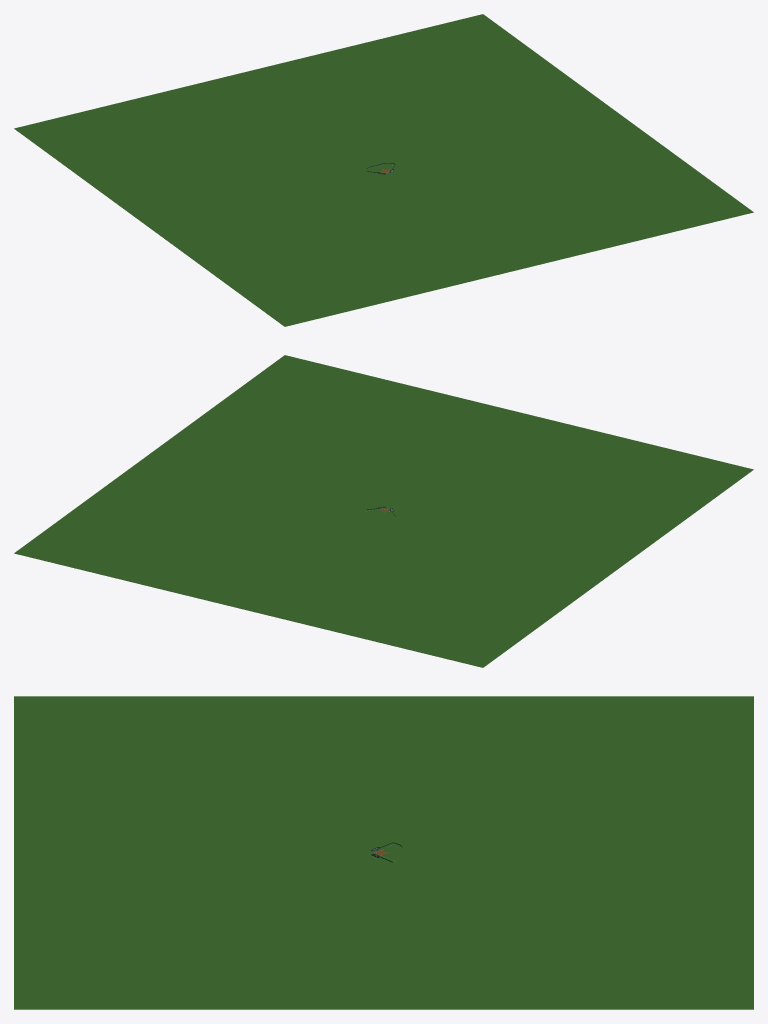
Rendered from baseball_field.glb.
3 renders of one model, top to bottom at view 1: azimuth 30°, elevation 25°; view 2: azimuth 150°, elevation 25°; view 3: azimuth 270°, elevation 25°, orthographic. The views are drawn at different scales.
Visible parts, largest first — view 1: BaseballField; view 2: BaseballField; view 3: BaseballField.
Part boxes in pixels (x1=…): BaseballField: x1=14, y1=14, x2=753, y2=326; BaseballField: x1=14, y1=355, x2=753, y2=667; BaseballField: x1=14, y1=696, x2=753, y2=1009.
Bounding box in the file's own units: 1000 × 4.56 × 1000.
